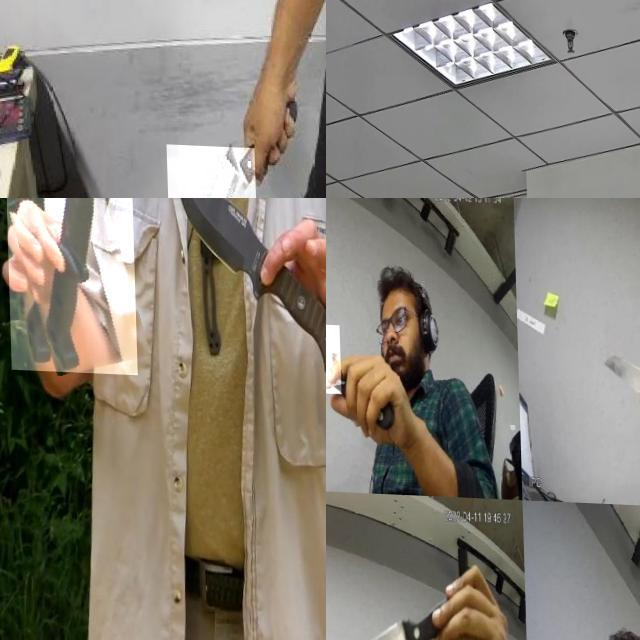-: (171, 198, 326, 374), (4, 198, 135, 373), (164, 142, 255, 198), (326, 321, 359, 392), (326, 614, 414, 640), (600, 348, 640, 400)
